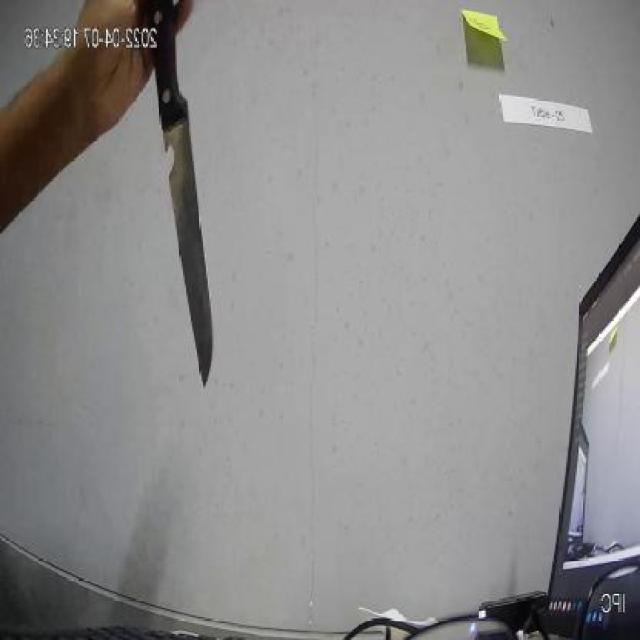knife: (142, 0, 223, 423)
